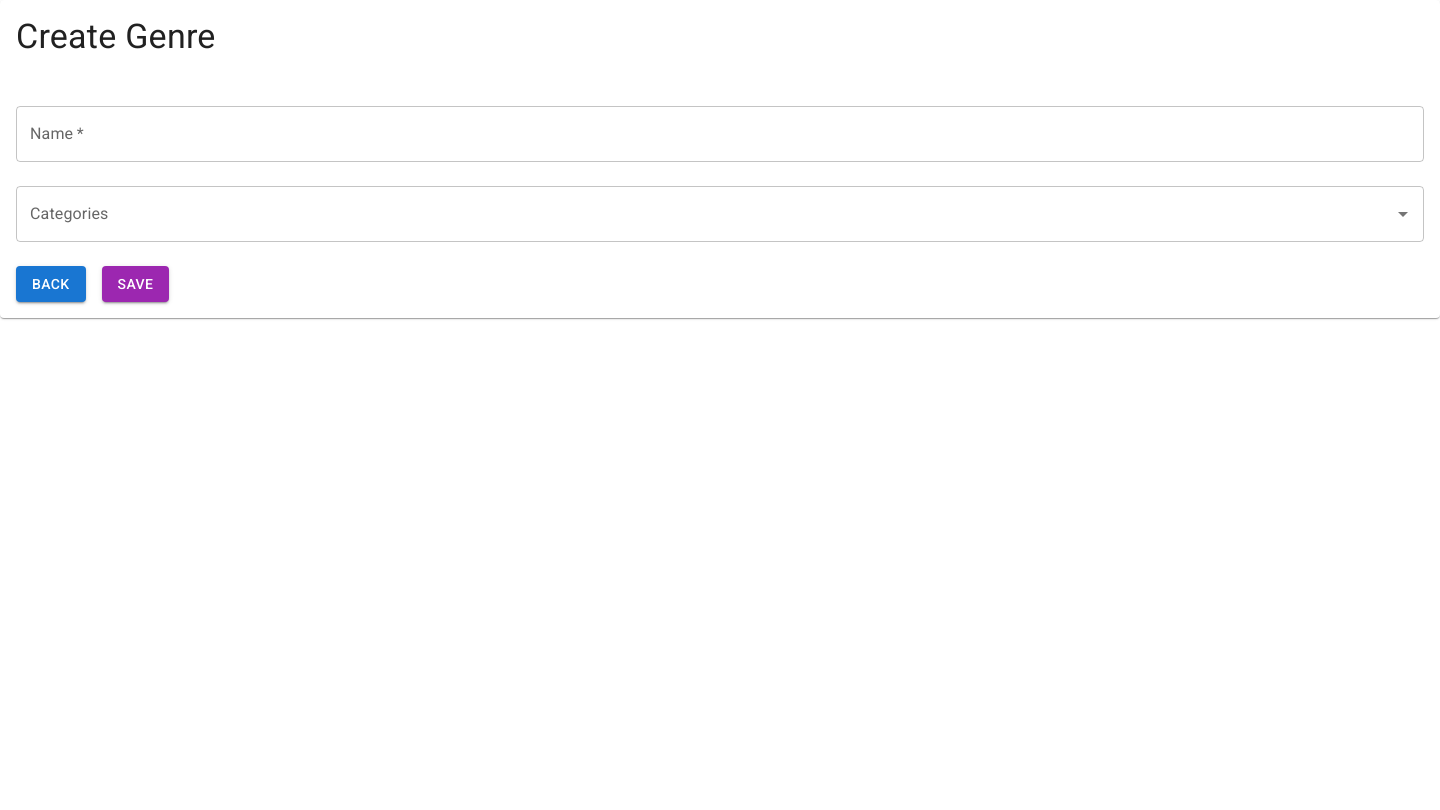
Scenario: GenreCreate › genre created message error
Type "Test" into the field labelled "Name *" at (720, 134), box [16,106,1424,162]
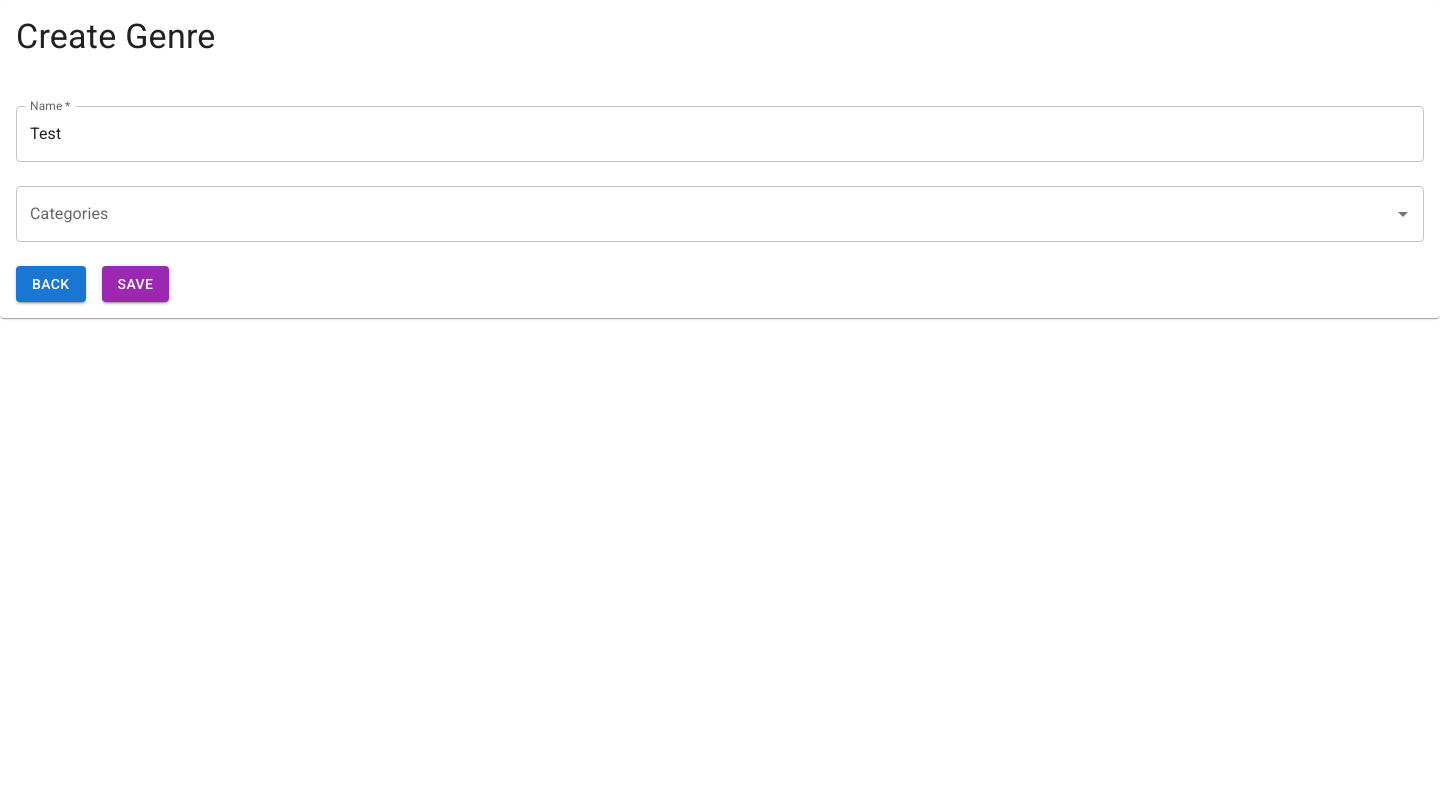
Click the button "Save" at (136, 284), box [102,266,169,302]
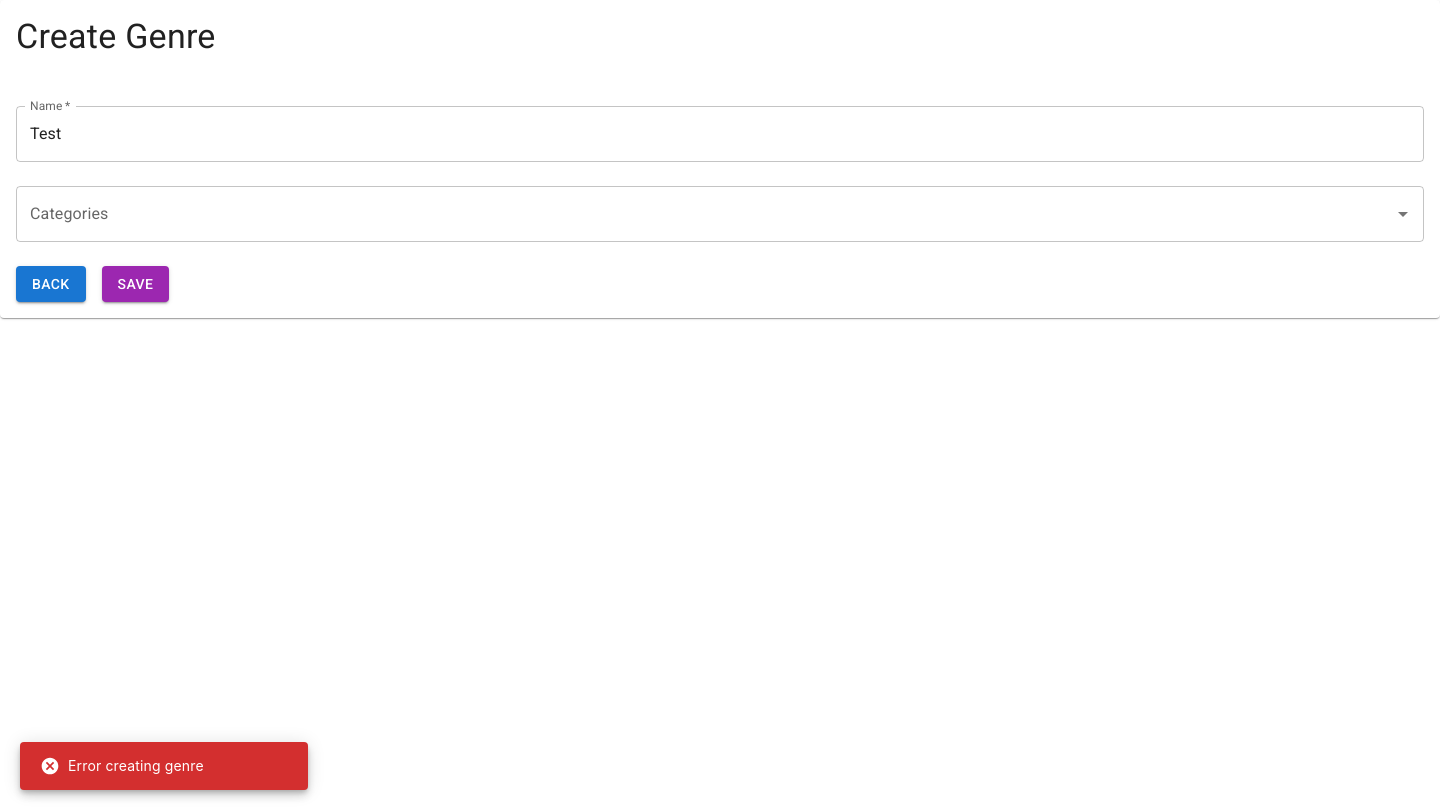
Now the text "Error creating genre" is shown, box [40,756,204,776]
